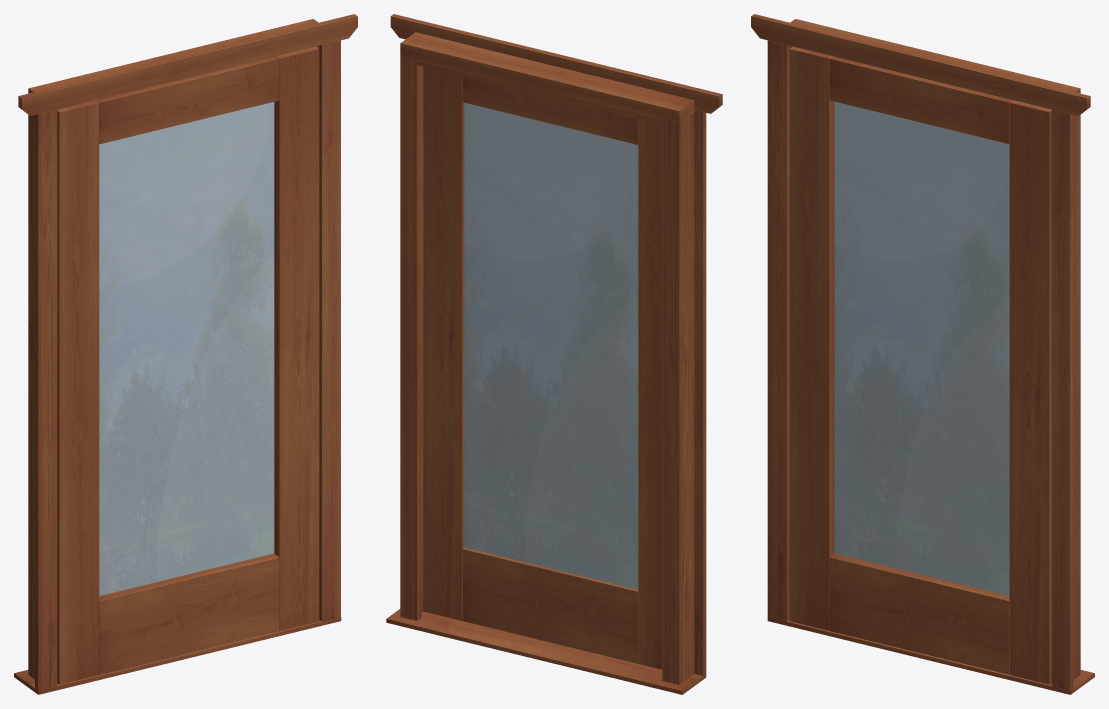
Rendered from d8-ndl.obj.
3 renders of one model, left to right at view 1: azimuth 30°, elevation 25°; view 2: azimuth 150°, elevation 25°; view 3: azimuth 330°, elevation 25°, orthographic. The views are drawn at different scales.
Visible parts, largest first — view 1: glass, door_right, door_left, door_bottom, trim_left, trim_right, door_top, trim_top, box_left, threshold, box_top; view 2: glass, door_right, box_left, door_left, door_bottom, box_right, box_top, trim_left, stop_right, threshold, trim_top, door_top (+2 smaller); view 3: glass, door_left, door_right, door_bottom, trim_left, trim_right, door_top, trim_top, box_right, threshold, box_top.
Part boxes in pixels (x1=…): glass: x1=99, y1=102, x2=274, y2=595; door_right: x1=274, y1=46, x2=319, y2=630; door_left: x1=57, y1=100, x2=99, y2=684; door_bottom: x1=99, y1=553, x2=279, y2=674; trim_left: x1=35, y1=109, x2=57, y2=690; trim_right: x1=318, y1=40, x2=340, y2=621; door_top: x1=96, y1=56, x2=279, y2=144; trim_top: x1=18, y1=14, x2=357, y2=115; box_left: x1=28, y1=115, x2=34, y2=679; threshold: x1=14, y1=617, x2=341, y2=694; box_top: x1=28, y1=19, x2=318, y2=93; glass: x1=464, y1=102, x2=638, y2=589; door_right: x1=423, y1=66, x2=464, y2=620; box_left: x1=668, y1=112, x2=694, y2=684; door_left: x1=638, y1=119, x2=662, y2=669; door_bottom: x1=462, y1=547, x2=638, y2=663; box_right: x1=400, y1=55, x2=423, y2=619; box_top: x1=400, y1=32, x2=694, y2=122; trim_left: x1=694, y1=110, x2=706, y2=675; stop_right: x1=411, y1=56, x2=421, y2=620; threshold: x1=386, y1=609, x2=706, y2=694; trim_top: x1=390, y1=14, x2=722, y2=113; door_top: x1=462, y1=76, x2=638, y2=144; glass: x1=834, y1=102, x2=1009, y2=595; door_left: x1=789, y1=46, x2=834, y2=630; door_right: x1=1009, y1=100, x2=1051, y2=684; door_bottom: x1=829, y1=553, x2=1009, y2=674; trim_left: x1=767, y1=40, x2=789, y2=621; trim_right: x1=1051, y1=109, x2=1073, y2=690; door_top: x1=829, y1=56, x2=1012, y2=144; trim_top: x1=751, y1=14, x2=1090, y2=115; box_right: x1=1073, y1=115, x2=1080, y2=679; threshold: x1=767, y1=617, x2=1094, y2=694; box_top: x1=790, y1=19, x2=1080, y2=93.
Bounding box in the file's own units: 43.93 × 75 × 5.5.
Materials: 8 (8 with a texture image).
